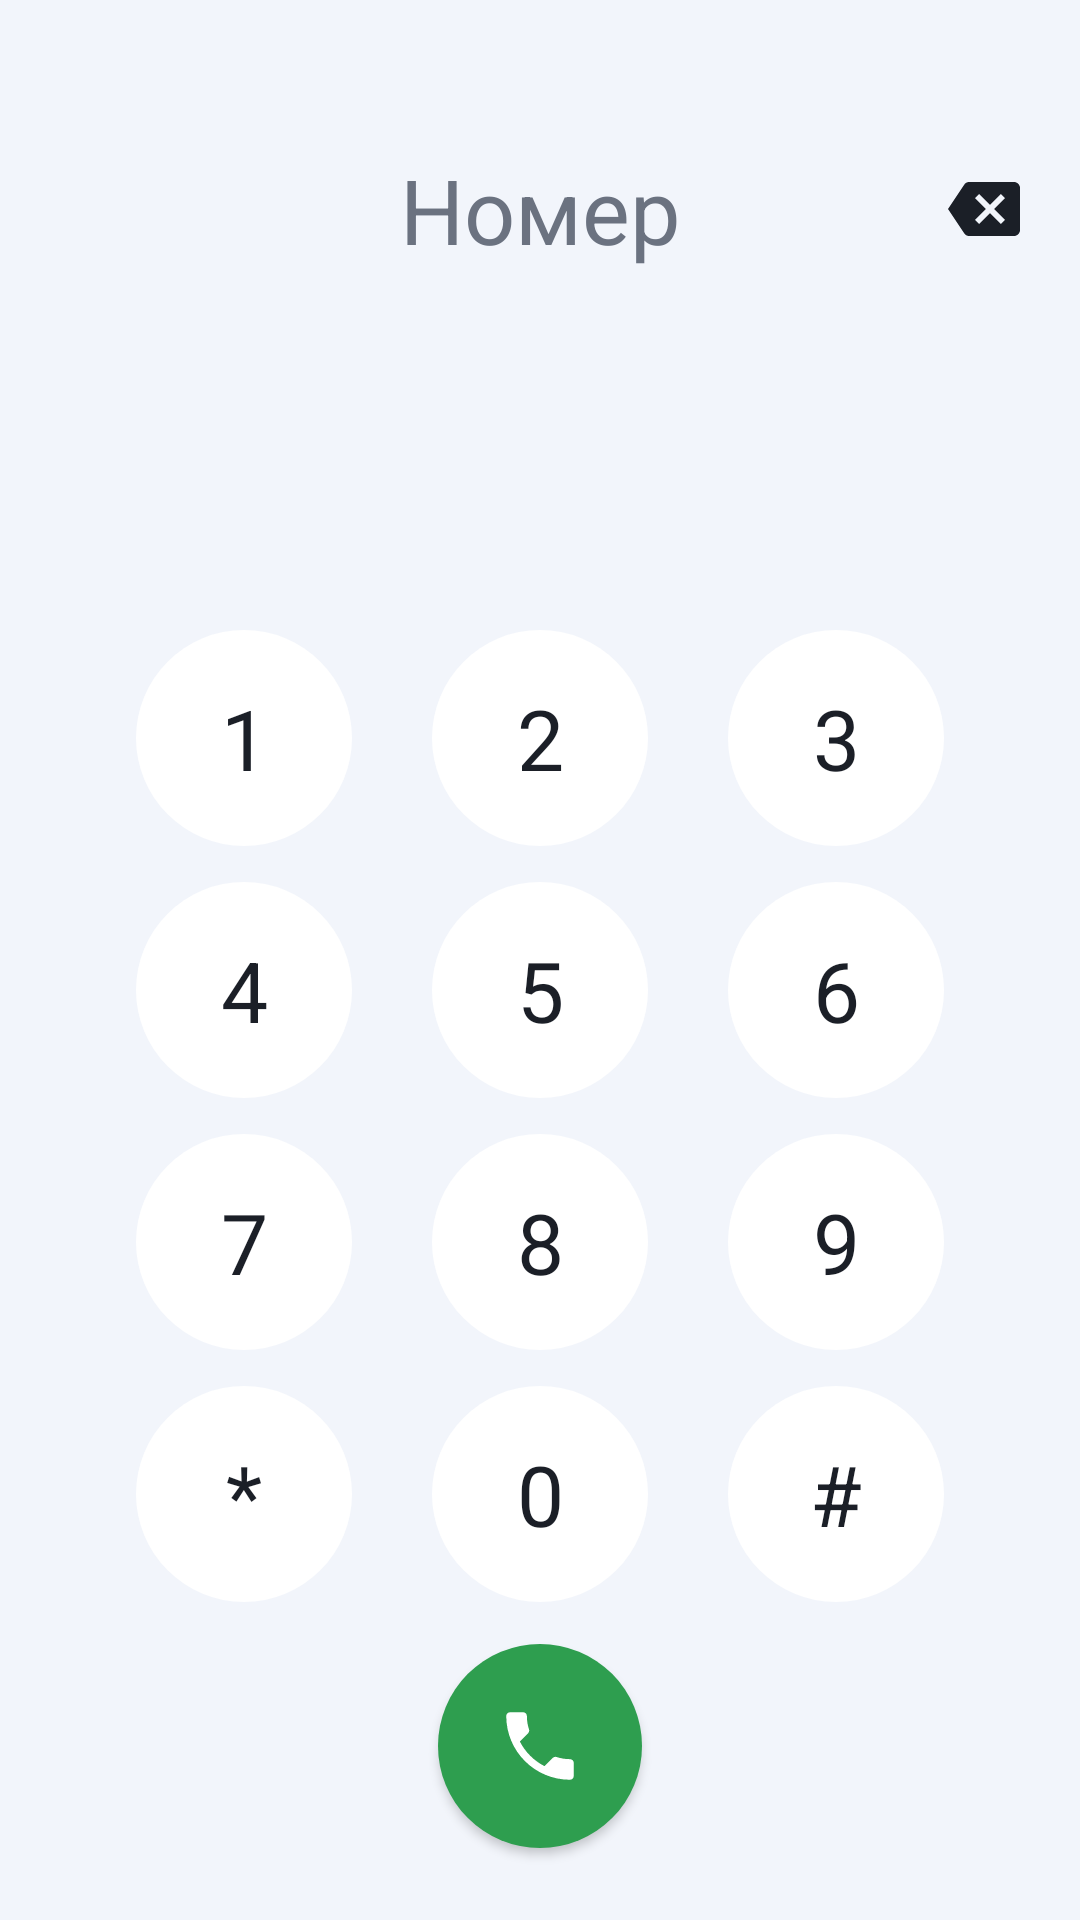

Where icons sit on this 1080px x 1920px app screen, as bbox=(x1, y1, x2, y2):
Позвонить: bbox=(438, 1644, 642, 1848)
Стереть: bbox=(948, 182, 1020, 236)
